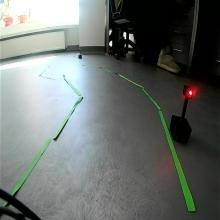red: (182, 84, 195, 100)
